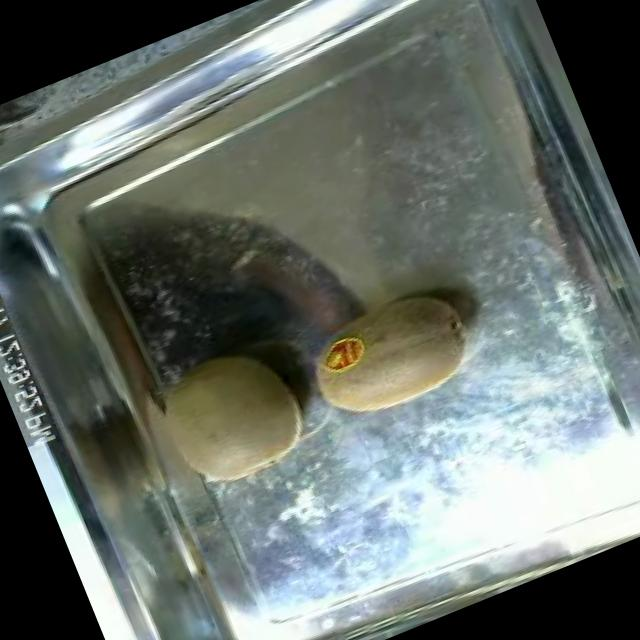Fruit: (282, 265, 496, 444), (140, 322, 326, 509)
